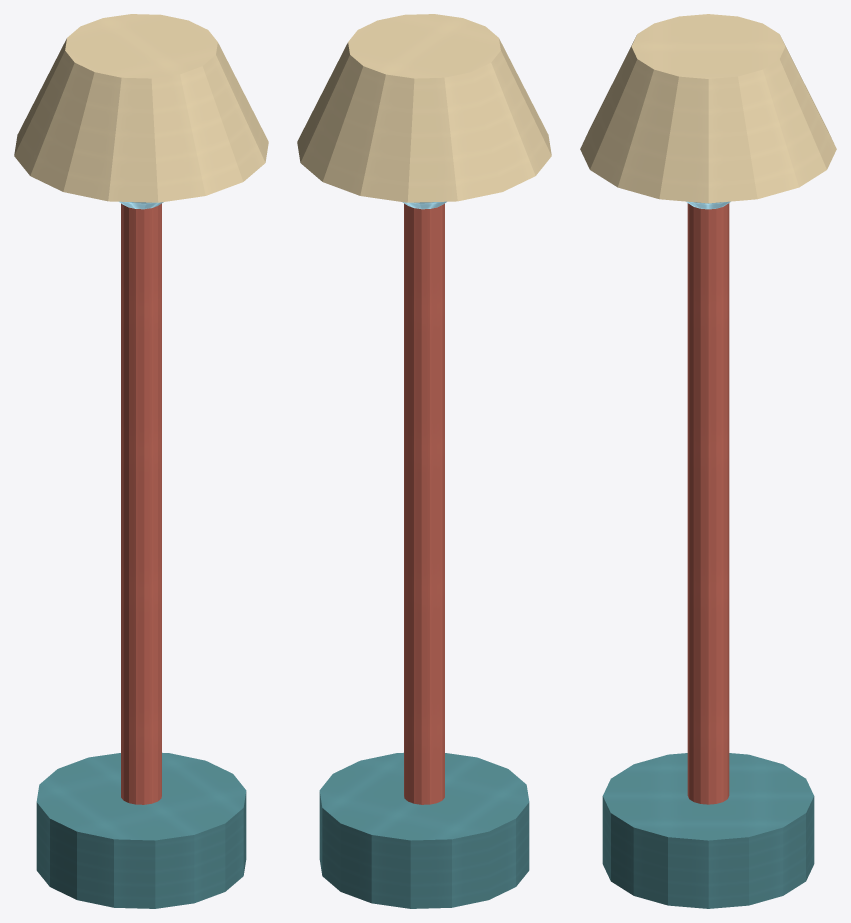
The model's file is atlas100-atompunk-util01.glb.
3 views of the same model, side by side, from view 1: azimuth 30°, elevation 25°; view 2: azimuth 150°, elevation 25°; view 3: azimuth 270°, elevation 25° (orthographic).
Parts seen in each view (by area): view 1: atlas100-atompunk-util01:part-002, atlas100-atompunk-util01:part-000, atlas100-atompunk-util01:part-001; view 2: atlas100-atompunk-util01:part-002, atlas100-atompunk-util01:part-000, atlas100-atompunk-util01:part-001; view 3: atlas100-atompunk-util01:part-002, atlas100-atompunk-util01:part-000, atlas100-atompunk-util01:part-001.
Part boxes in pixels (x1,y1,x2,y2): atlas100-atompunk-util01:part-002: [14, 14, 268, 202]; atlas100-atompunk-util01:part-000: [36, 752, 246, 908]; atlas100-atompunk-util01:part-001: [121, 203, 161, 804]; atlas100-atompunk-util01:part-002: [297, 14, 551, 202]; atlas100-atompunk-util01:part-000: [319, 752, 529, 908]; atlas100-atompunk-util01:part-001: [404, 203, 444, 804]; atlas100-atompunk-util01:part-002: [580, 14, 836, 203]; atlas100-atompunk-util01:part-000: [602, 753, 814, 908]; atlas100-atompunk-util01:part-001: [687, 203, 729, 804].
Bounding box in the file's own units: 0.68 × 2.39 × 0.68.
Materials: 4 (4 with a texture image).
